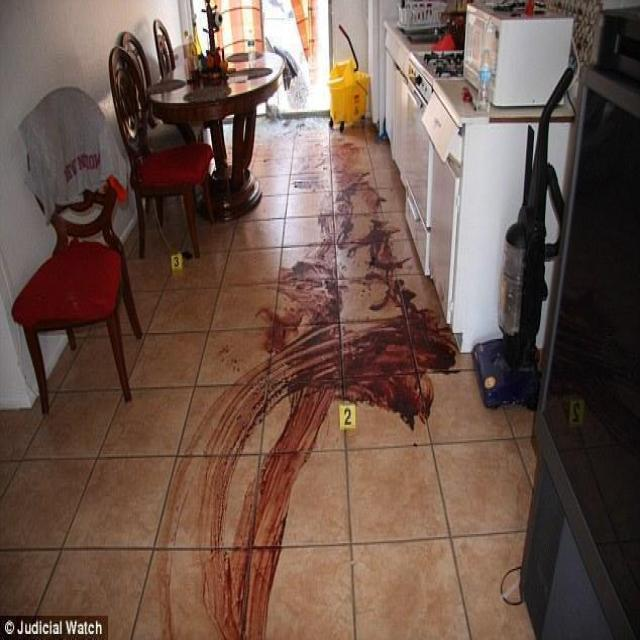flood: (190, 363, 329, 640), (280, 260, 454, 431), (292, 130, 402, 246)
